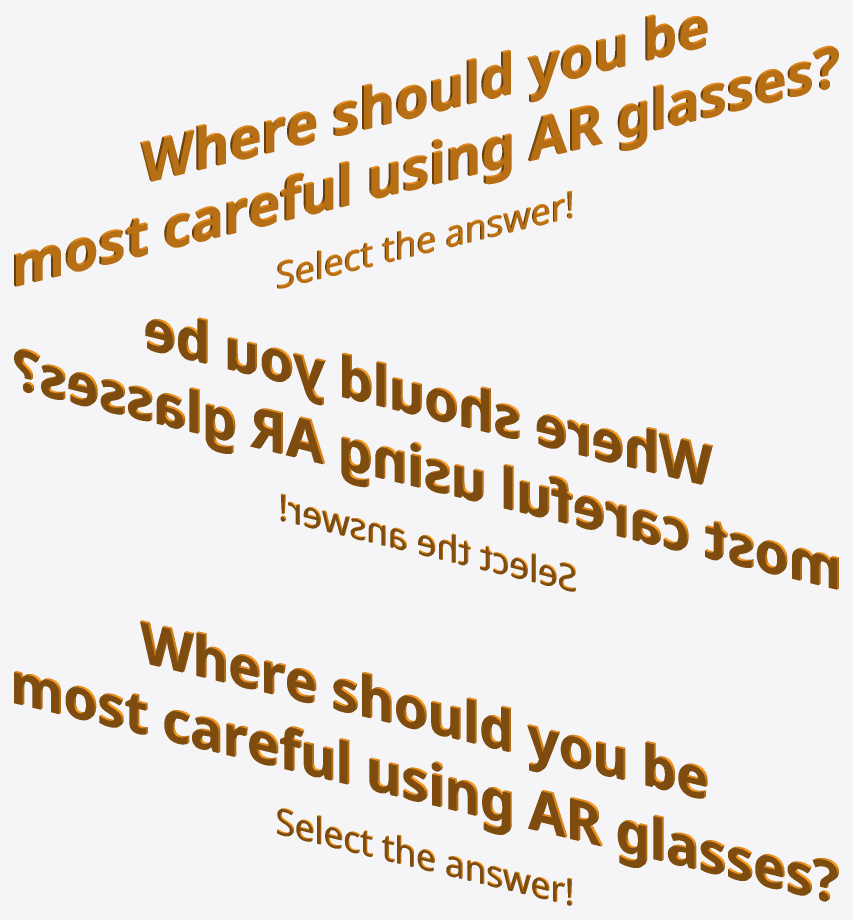
Rendered from Quiz_text1.glb.
3 views of the same model, one above another, from view 1: azimuth 30°, elevation 25°; view 2: azimuth 150°, elevation 25°; view 3: azimuth 330°, elevation 25° (orthographic).
Parts seen in each view (by area): view 1: Quiz_text; view 2: Quiz_text; view 3: Quiz_text.
Boxes of the visible parts, bbox=[...] form: Quiz_text: bbox=[14, 14, 838, 288]; Quiz_text: bbox=[14, 317, 838, 591]; Quiz_text: bbox=[14, 620, 838, 905].
Size of the model in its own units: 2.73 by 0.5773 by 0.0114.
